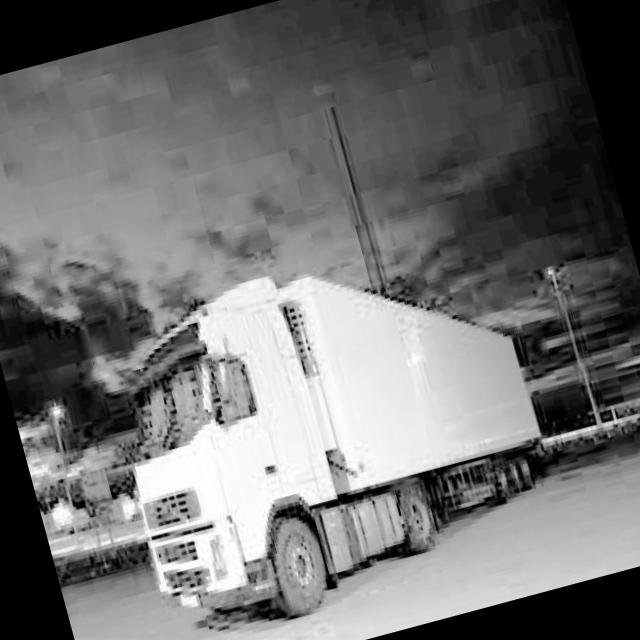Truck: (83, 210, 570, 640)
